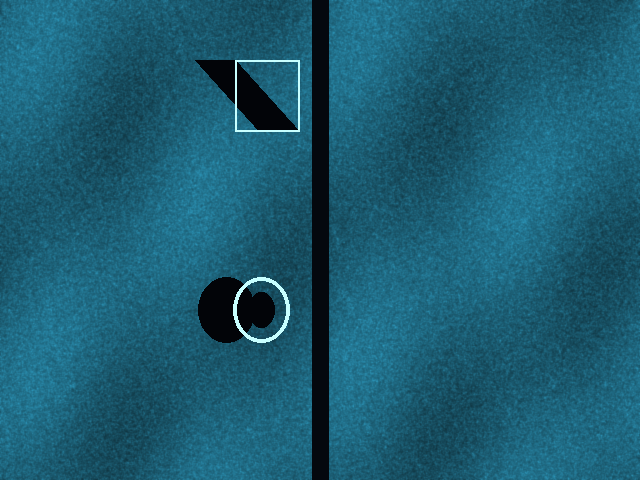Plastic Debris: (235, 60, 299, 131)
Tire: (233, 277, 289, 342)
